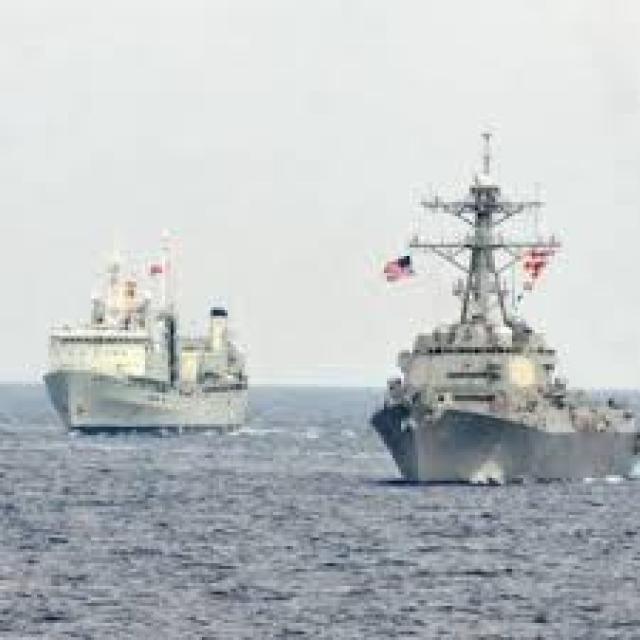navalvessels: (330, 158, 630, 502), (37, 216, 253, 439)
